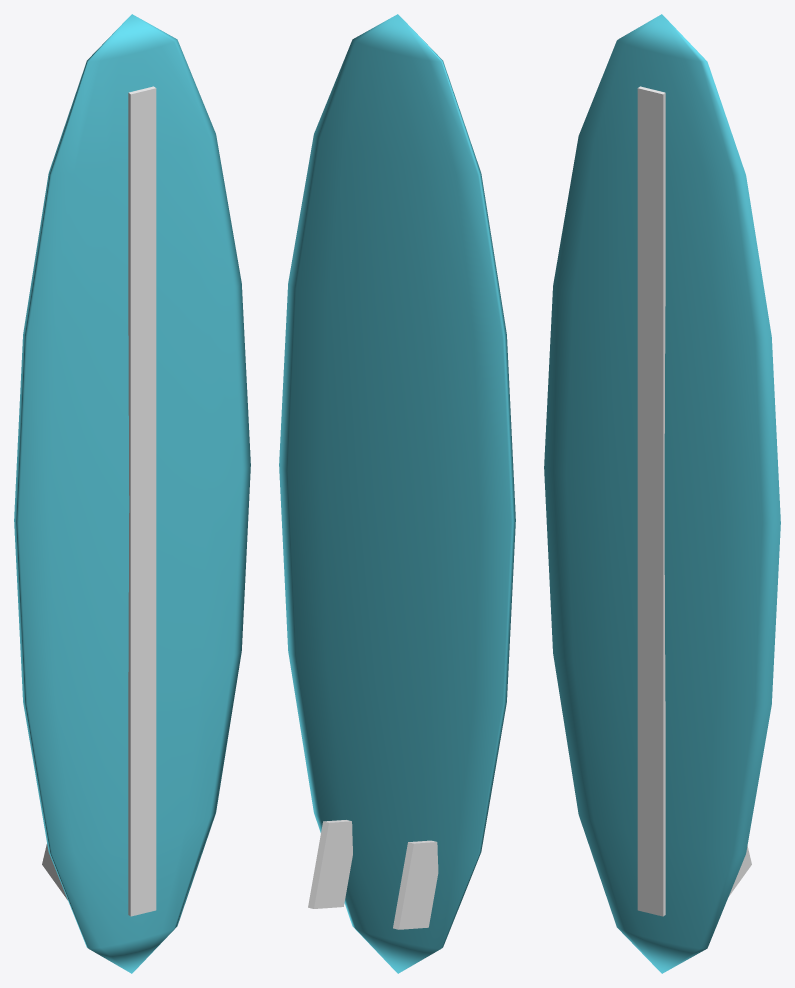
The model's file is prop_surfboard.glb.
3 views of the same model, side by side, from view 1: azimuth 30°, elevation 25°; view 2: azimuth 150°, elevation 25°; view 3: azimuth 330°, elevation 25° (orthographic).
Parts seen in each view (by area): view 1: primary_color, stripe_fins; view 2: primary_color, stripe_fins; view 3: primary_color, stripe_fins.
Part boxes in pixels (left/top/right/bottom): primary_color: left=14, top=14, right=250, bottom=973; stripe_fins: left=42, top=86, right=156, bottom=916; primary_color: left=279, top=14, right=515, bottom=973; stripe_fins: left=308, top=820, right=438, bottom=929; primary_color: left=544, top=14, right=780, bottom=973; stripe_fins: left=637, top=86, right=751, bottom=916.
Size of the model in its own units: 0.5519 by 2.16 by 0.2289.
